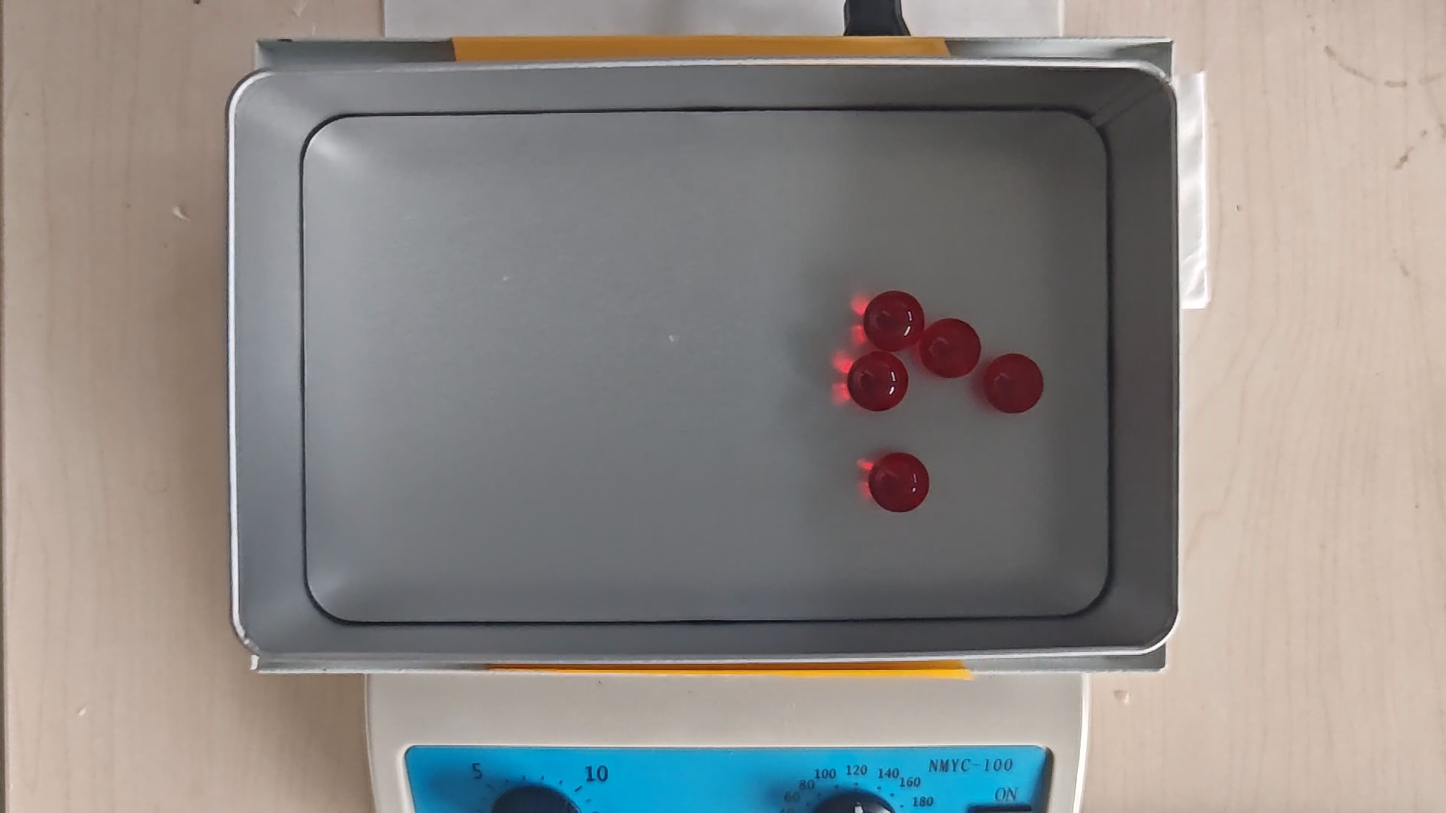ball: (847, 351, 909, 415), (924, 318, 982, 379), (986, 354, 1043, 416), (872, 451, 929, 512), (866, 291, 923, 350)
container: (297, 108, 1110, 622)
